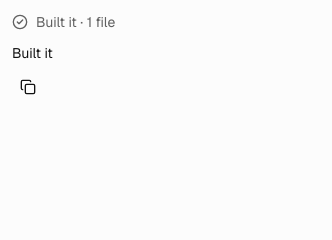
Test case: task rows › reads, skills, deletes and line counts
Click the button "Built it · 1 file": {"x": 64, "y": 22} top-left (12, 12), bottom-right (115, 32)
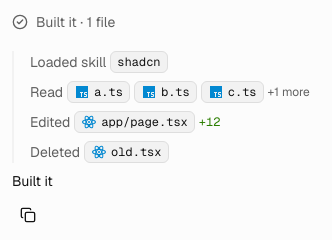
Expected: the text "Loaded skill" is shown, top-left (30, 53), bottom-right (106, 71)
Expected: the text "shadcn" is shown, top-left (110, 51), bottom-right (168, 73)
Expected: the text "+1 more" is shown, top-left (268, 84), bottom-right (310, 100)
